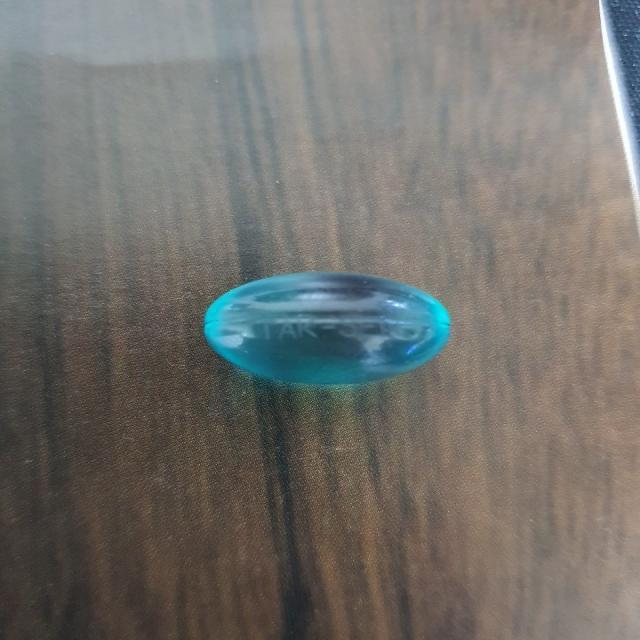pill: (188, 256, 468, 408)
